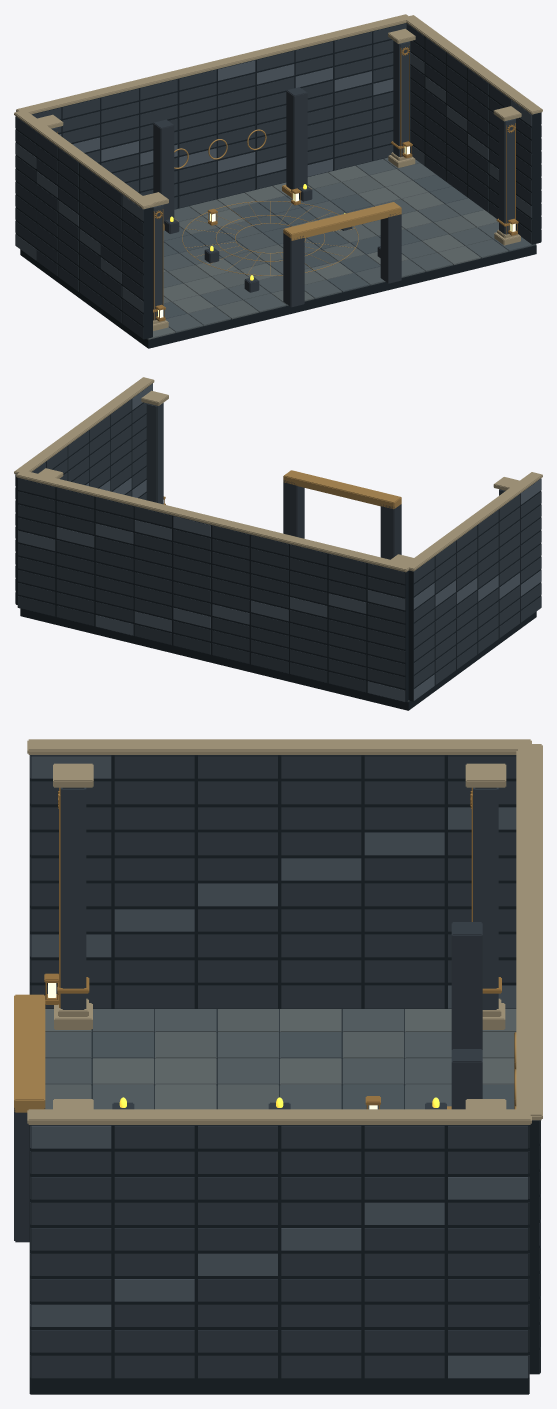
Rendered from sanctum-static-v01.glb.
3 views of the same model, one above another, from view 1: azimuth 30°, elevation 25°; view 2: azimuth 150°, elevation 25°; view 3: azimuth 270°, elevation 25° (orthographic). The views are drawn at different scales.
Visible parts, largest first — view 1: Sanctum Basalt • charcoal, Sanctum Recesses and grout, Sanctum Floor stone 0, Sanctum Ash stone • warm trim, Sanctum Basalt • blue grey bevels, Sanctum Floor stone 2, Sanctum Guardian charcoal robe, Sanctum Floor stone 3, Sanctum Floor stone 1, Sanctum Guardian aged bronze, Sanctum Bronze • forged warm; view 2: Sanctum Basalt • charcoal, Sanctum Recesses and grout, Sanctum Basalt • blue grey bevels, Sanctum Ash stone • warm trim, Sanctum Guardian charcoal robe, Sanctum Guardian aged bronze; view 3: Sanctum Basalt • charcoal, Sanctum Recesses and grout, Sanctum Ash stone • warm trim, Sanctum Basalt • blue grey bevels, Sanctum Floor stone 0, Sanctum Floor stone 2, Sanctum Floor stone 1, Sanctum Guardian charcoal robe, Sanctum Floor stone 3, Sanctum Guardian aged bronze, Sanctum Bronze • forged warm.
Boxes of the visible parts, left/top/right/bottom form: Sanctum Basalt • charcoal: left=15, top=23, right=541, bottom=338; Sanctum Recesses and grout: left=15, top=23, right=541, bottom=348; Sanctum Floor stone 0: left=163, top=157, right=508, bottom=332; Sanctum Ash stone • warm trim: left=14, top=14, right=542, bottom=330; Sanctum Basalt • blue grey bevels: left=15, top=52, right=541, bottom=312; Sanctum Floor stone 2: left=147, top=165, right=498, bottom=339; Sanctum Guardian charcoal robe: left=153, top=87, right=401, bottom=307; Sanctum Floor stone 3: left=163, top=175, right=536, bottom=318; Sanctum Floor stone 1: left=163, top=172, right=476, bottom=319; Sanctum Guardian aged bronze: left=163, top=129, right=401, bottom=275; Sanctum Bronze • forged warm: left=57, top=45, right=518, bottom=321; Sanctum Basalt • charcoal: left=15, top=399, right=541, bottom=692; Sanctum Recesses and grout: left=15, top=383, right=541, bottom=710; Sanctum Basalt • blue grey bevels: left=15, top=384, right=541, bottom=701; Sanctum Ash stone • warm trim: left=14, top=377, right=542, bottom=572; Sanctum Guardian charcoal robe: left=283, top=480, right=401, bottom=559; Sanctum Guardian aged bronze: left=283, top=470, right=401, bottom=509; Sanctum Basalt • charcoal: left=30, top=755, right=540, bottom=1378; Sanctum Recesses and grout: left=29, top=755, right=540, bottom=1394; Sanctum Ash stone • warm trim: left=27, top=739, right=542, bottom=1124; Sanctum Basalt • blue grey bevels: left=30, top=755, right=540, bottom=1378; Sanctum Floor stone 0: left=45, top=1009, right=451, bottom=1109; Sanctum Floor stone 2: left=45, top=1009, right=514, bottom=1109; Sanctum Floor stone 1: left=45, top=1009, right=516, bottom=1109; Sanctum Guardian charcoal robe: left=14, top=922, right=482, bottom=1242; Sanctum Floor stone 3: left=92, top=1032, right=514, bottom=1109; Sanctum Guardian aged bronze: left=14, top=994, right=516, bottom=1112; Sanctum Bronze • forged warm: left=44, top=787, right=501, bottom=1109.
Bounding box in the file's own units: 28.85 × 9.91 × 16.92.
